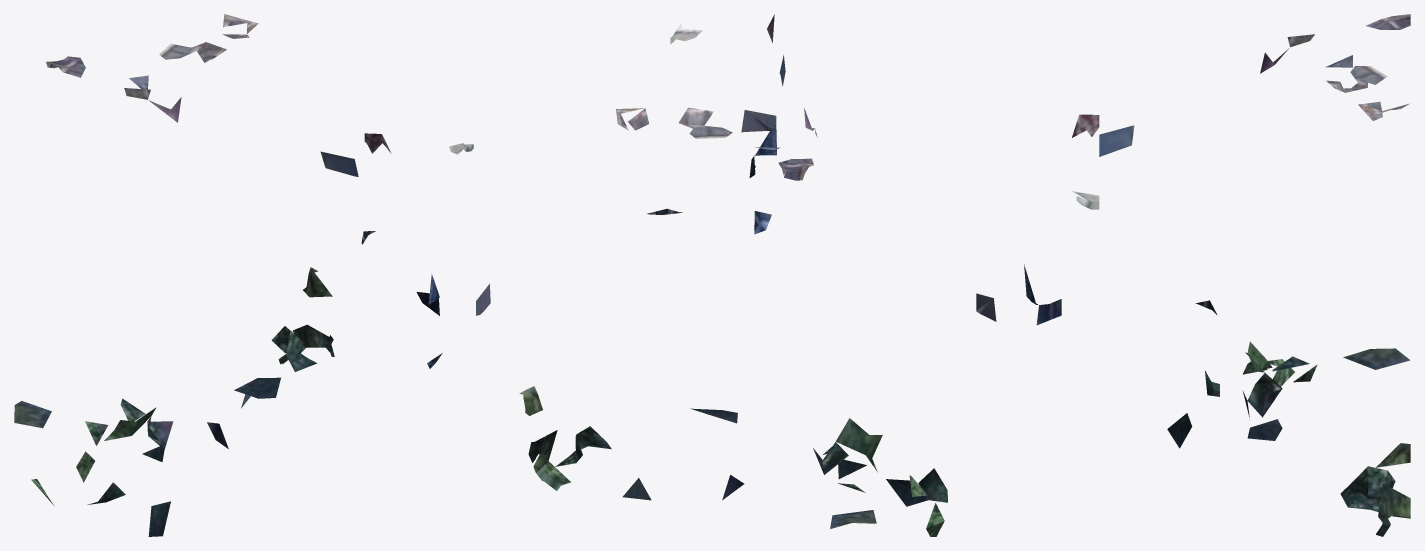
The picture shows the model from 3 angles, left to right: view 1: azimuth 30°, elevation 25°; view 2: azimuth 150°, elevation 25°; view 3: azimuth 270°, elevation 25°; orthographic projection. The views are drawn at different scales.
Parts seen in each view (by area): view 1: 30436272704361606727_1; view 2: 30436272704361606727_1; view 3: 30436272704361606727_1.
Part boxes in pixels (x1,y1,x2,y2): 30436272704361606727_1: (14,14,490,536); 30436272704361606727_1: (519,14,947,536); 30436272704361606727_1: (976,14,1410,536).
Bounding box in the file's own units: 26.54 × 29.43 × 26.69.
Materials: 1 (1 with a texture image).
